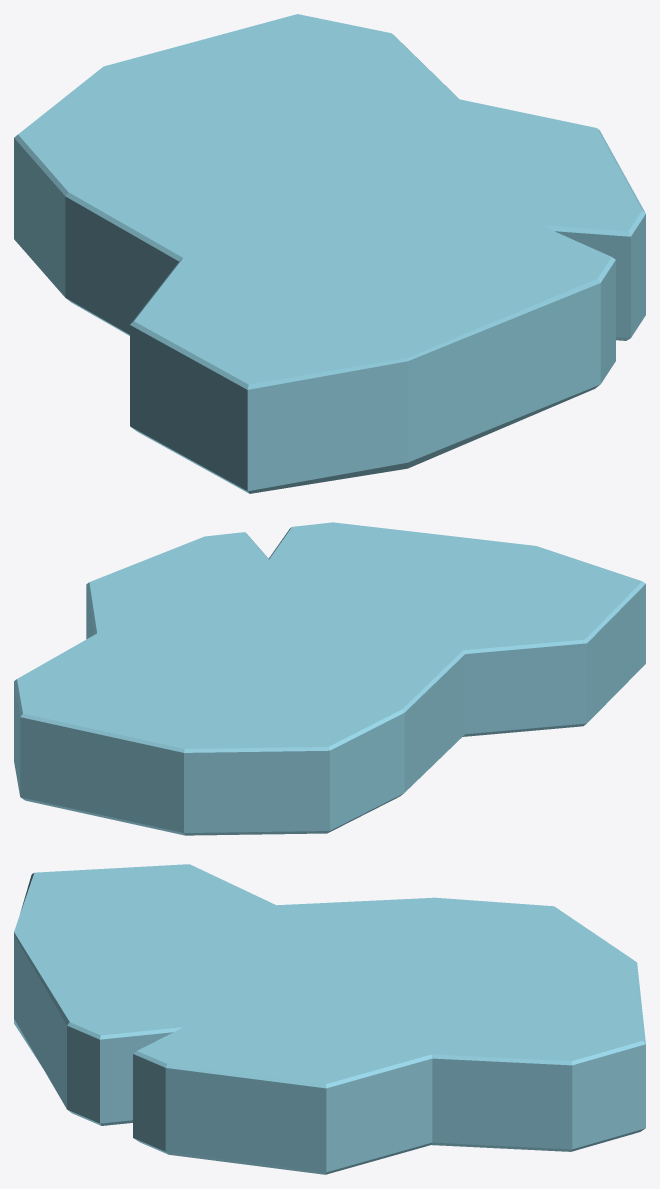
File: ice.glb
The picture shows the model from 3 angles, top to bottom: view 1: azimuth 30°, elevation 25°; view 2: azimuth 150°, elevation 25°; view 3: azimuth 270°, elevation 25°; orthographic projection. The views are drawn at different scales.
Parts seen in each view (by area): view 1: Plane; view 2: Plane; view 3: Plane.
Part boxes in pixels (bbox=[...]): Plane: bbox=[14, 14, 645, 493]; Plane: bbox=[14, 522, 645, 835]; Plane: bbox=[14, 864, 645, 1174].
Bounding box in the file's own units: 5.85 × 1.12 × 7.01.
